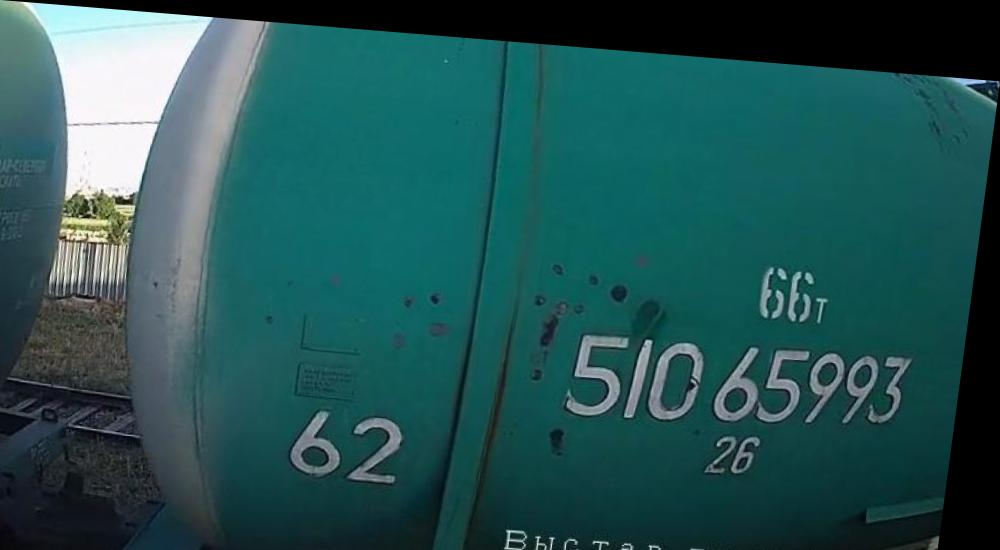Wagon-number: (565, 313, 926, 433)
